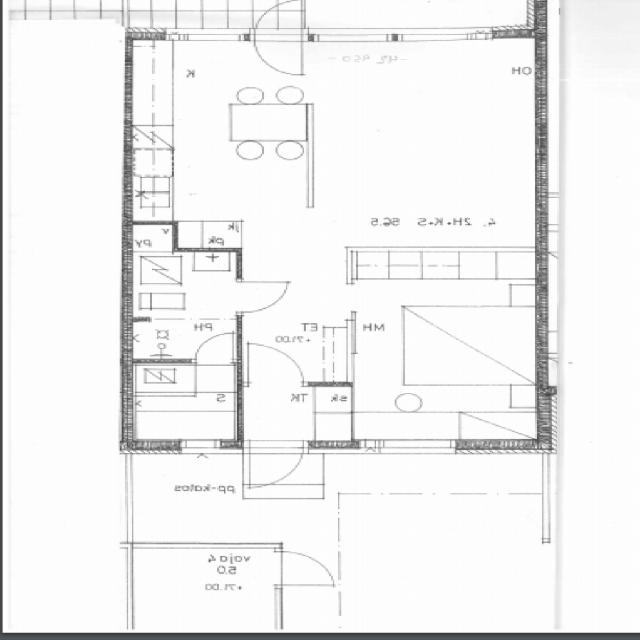door: (250, 439, 304, 489), (248, 343, 302, 385), (256, 26, 302, 71), (256, 0, 302, 39), (276, 550, 328, 582), (235, 282, 284, 310), (196, 333, 232, 363)
